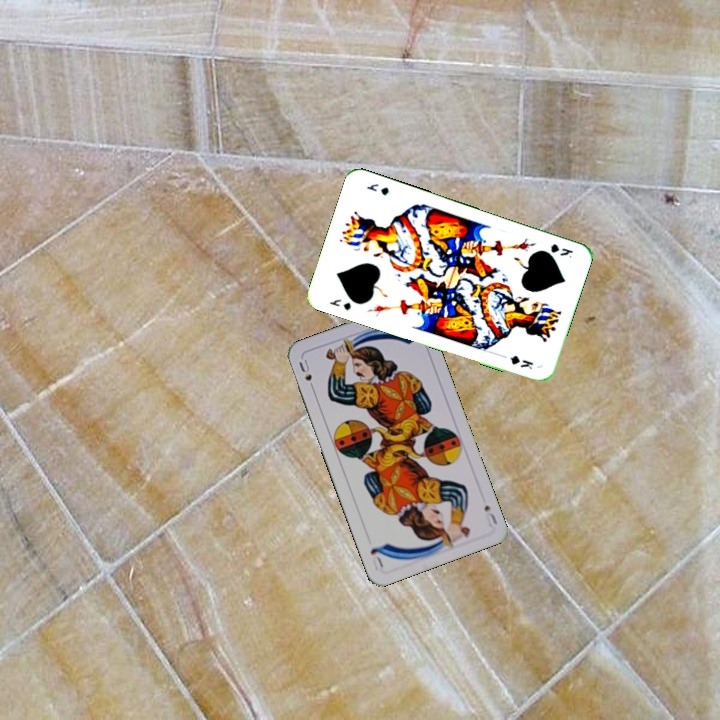GK: (545, 240, 576, 261), (325, 295, 354, 313)
SU: (295, 355, 318, 394), (480, 501, 500, 529)
